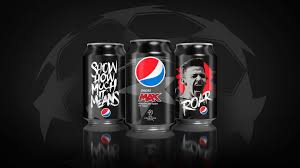can: (128, 34, 177, 143), (79, 38, 133, 136), (174, 39, 223, 131)
